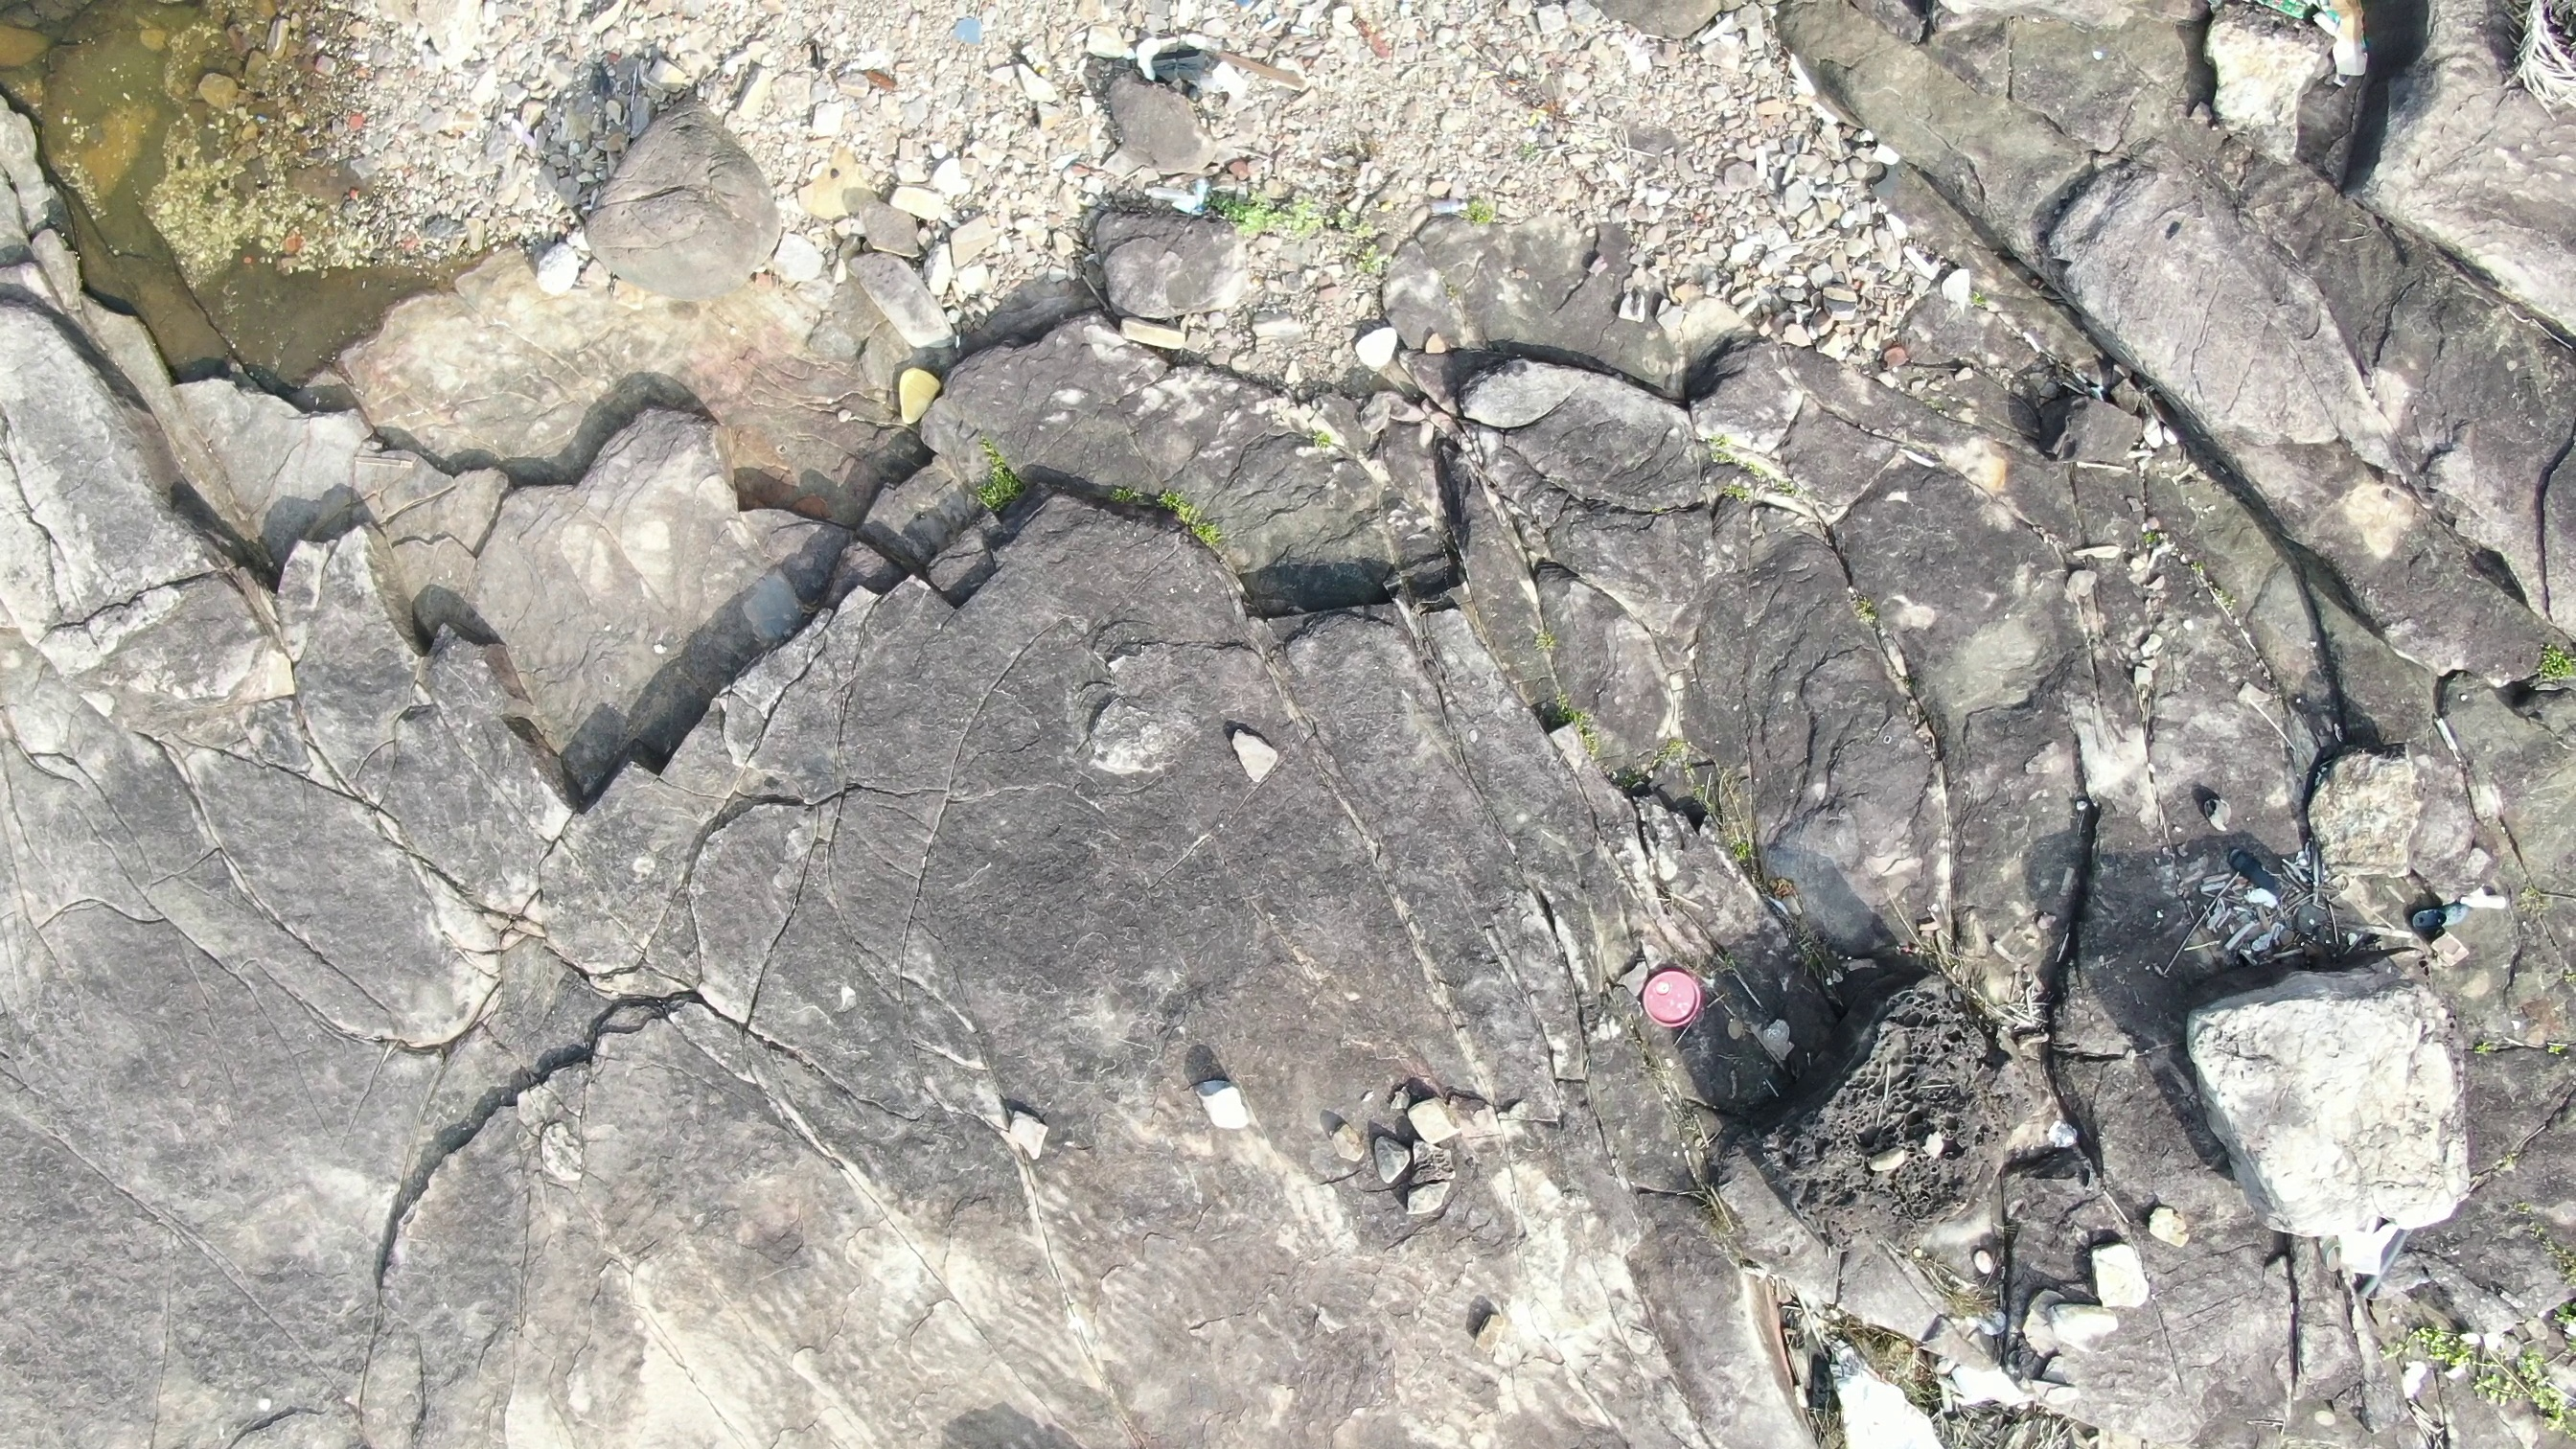garbage: (2229, 2, 2365, 51), (890, 357, 950, 446), (1629, 968, 1707, 1035), (2401, 890, 2473, 945)
